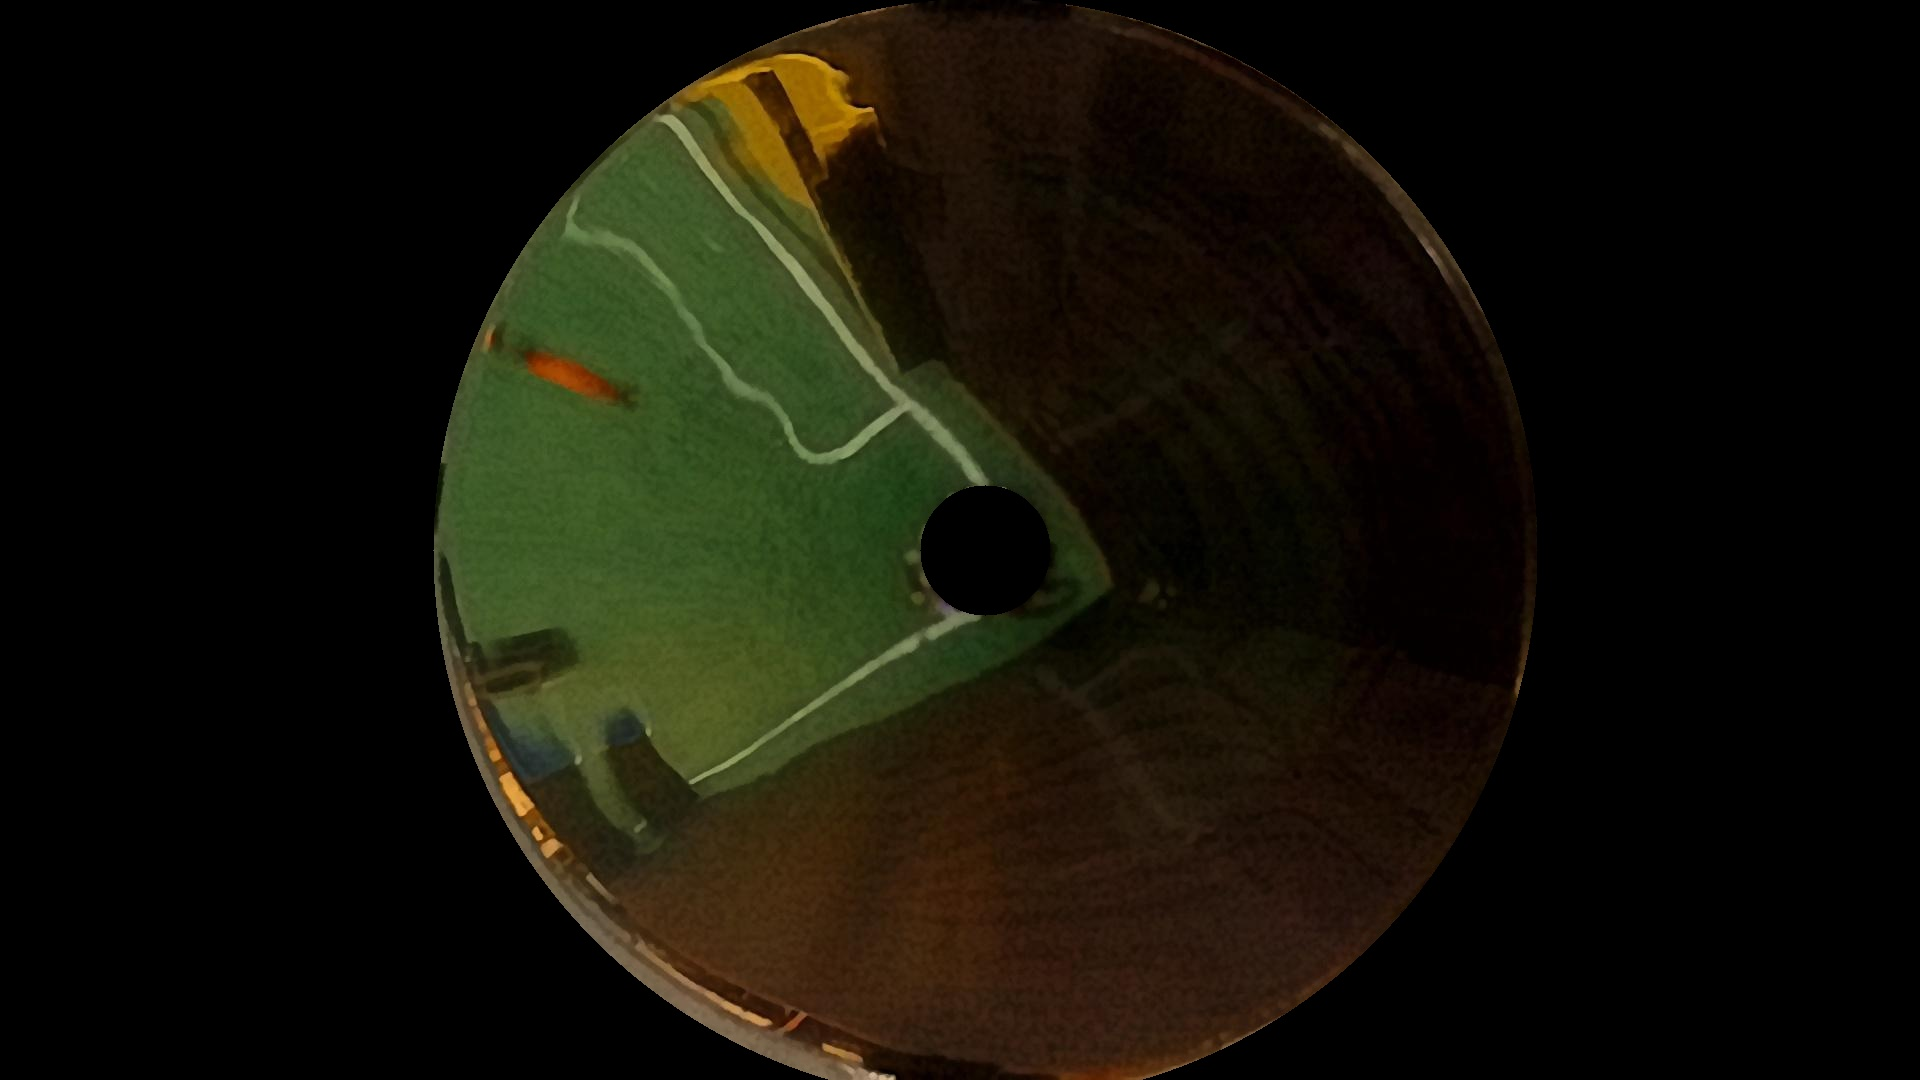ball: (514, 334, 642, 410)
blue-goal: (492, 680, 655, 782)
robots: (444, 642, 585, 684)
yellow-goal: (676, 70, 986, 360)
